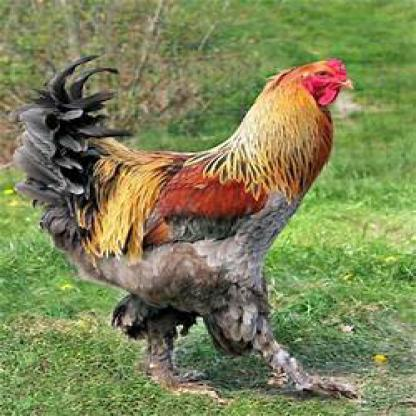chicken: (15, 54, 359, 401)
